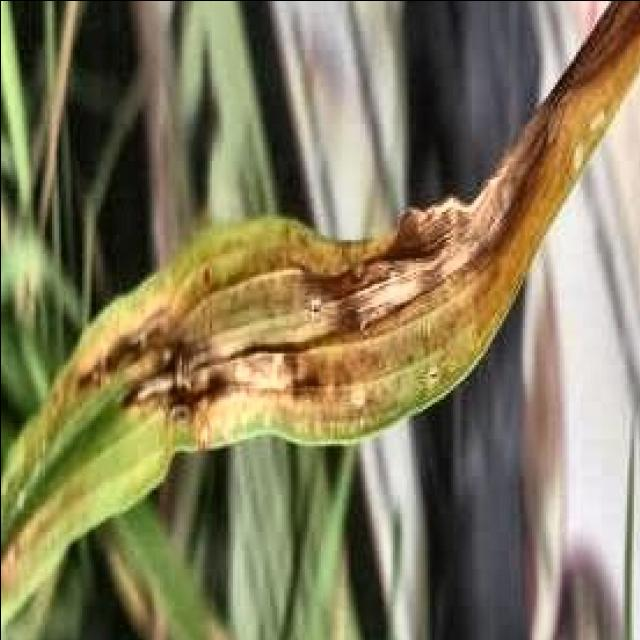Leaf_Blast: (21, 215, 392, 608)
